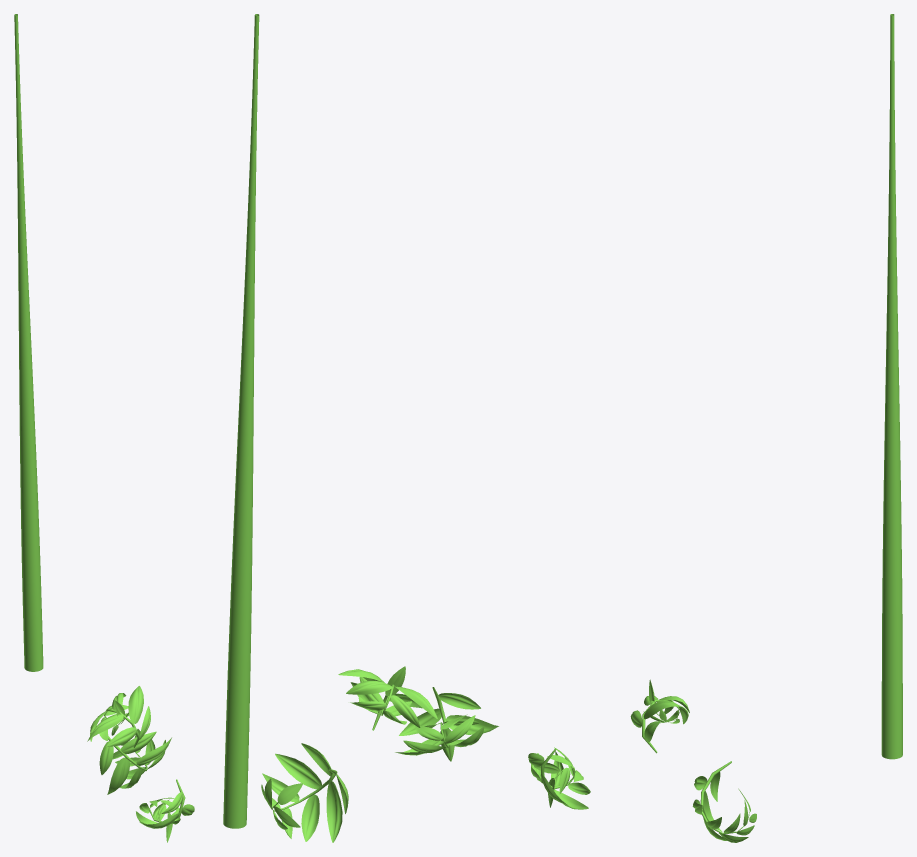
File: 046-growth.gltf
3 views of the same model, side by side, from view 1: azimuth 30°, elevation 25°; view 2: azimuth 150°, elevation 25°; view 3: azimuth 270°, elevation 25° (orthographic). The views are drawn at different scales.
Parts seen in each view (by area): view 1: Vert.011, Vert.012, Vert.013, Vert.014; view 2: Vert.011, Vert.012, Vert.014, Vert.013; view 3: Vert.011, Vert.014, Vert.012, Vert.013.
Part boxes in pixels (bbox=[...]): Vert.011: bbox=[14, 14, 43, 671]; Vert.012: bbox=[99, 729, 171, 794]; Vert.013: bbox=[87, 686, 150, 747]; Vert.014: bbox=[136, 779, 194, 842]; Vert.011: bbox=[223, 14, 259, 828]; Vert.012: bbox=[261, 743, 348, 842]; Vert.014: bbox=[395, 687, 498, 761]; Vert.013: bbox=[338, 666, 437, 730]; Vert.011: bbox=[881, 14, 902, 759]; Vert.014: bbox=[528, 747, 590, 809]; Vert.012: bbox=[692, 761, 756, 842]; Vert.013: bbox=[630, 679, 689, 753].
Size of what is drawn, in the model's own units: 0.1778 by 1.12 by 0.4717.
